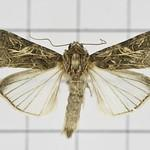Spodoptera litura: (1, 29, 150, 138)
